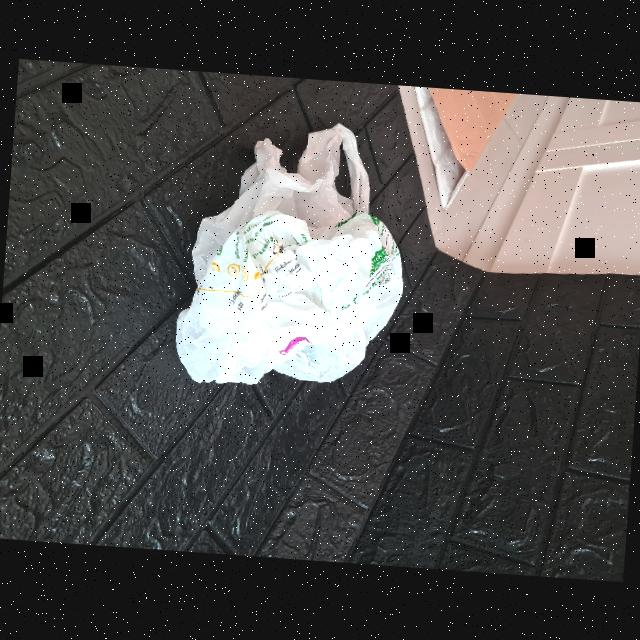plastic_bag: (164, 107, 410, 400)
